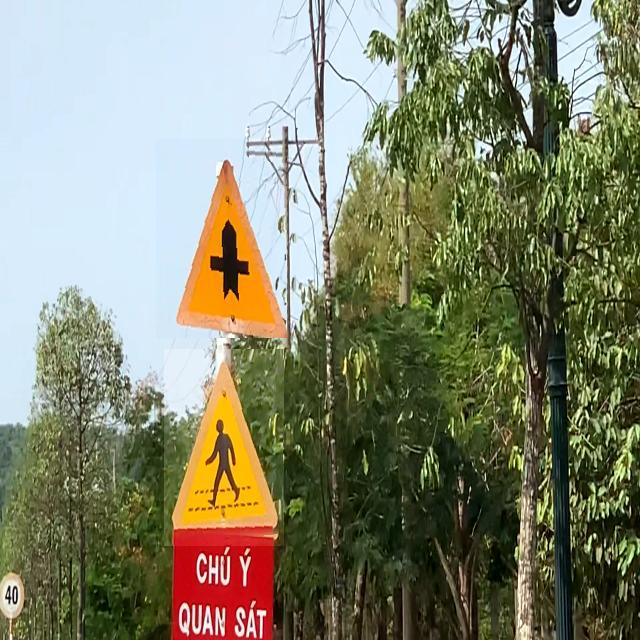W-207a: (156, 139, 287, 338)
W-224: (164, 349, 284, 546)
